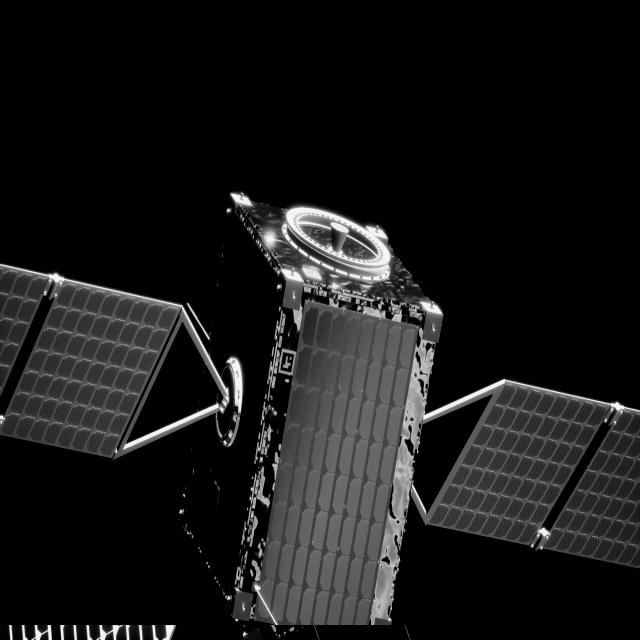satellite: (0, 190, 640, 628)
